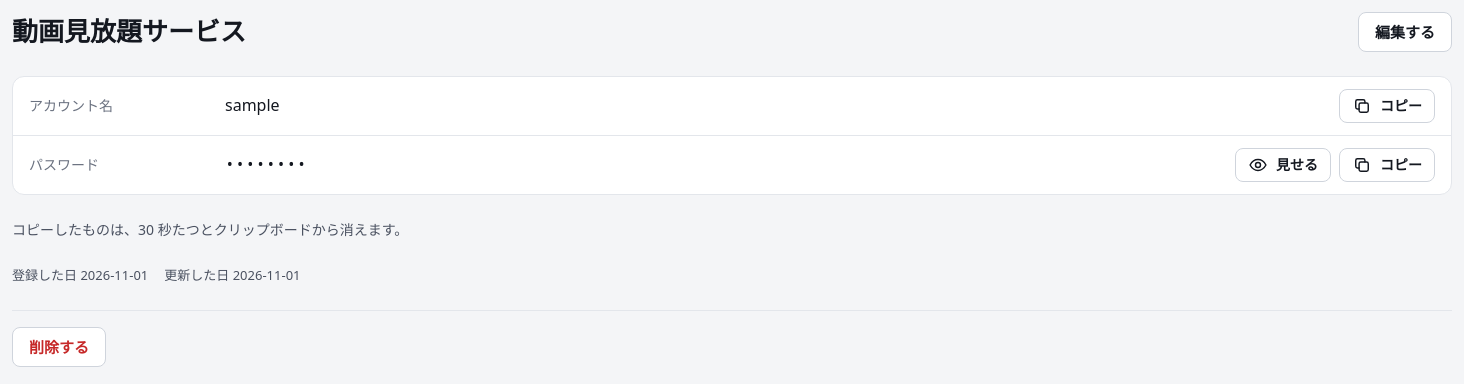
Scenario: 詳細の面 › コピーすると、そのボタンが「コピーしました」になり、30 秒で消える知らせを出す
Click the button with aria-label "パスワードをコピー": (1387, 165) left=1339, top=148, right=1435, bottom=182
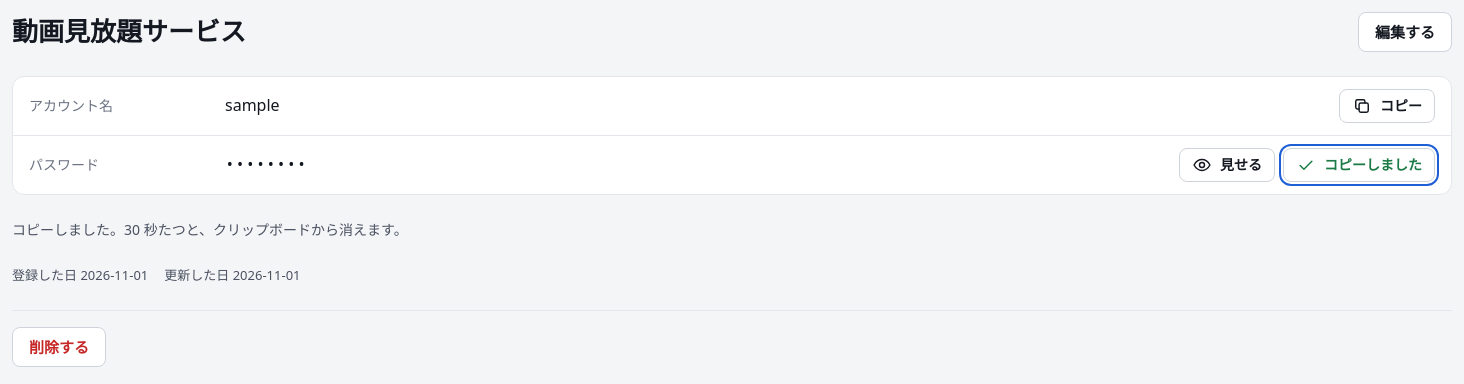
Expected: the button with aria-label "アカウント名をコピー" reads "コピー", left=1339, top=89, right=1435, bottom=123
Expected: the button with aria-label "パスワードをコピー" reads "コピーしました", left=1283, top=148, right=1435, bottom=182
Expected: the message reads "コピーしました。30 秒たつと、クリップボードから消えます。", left=12, top=220, right=408, bottom=239
